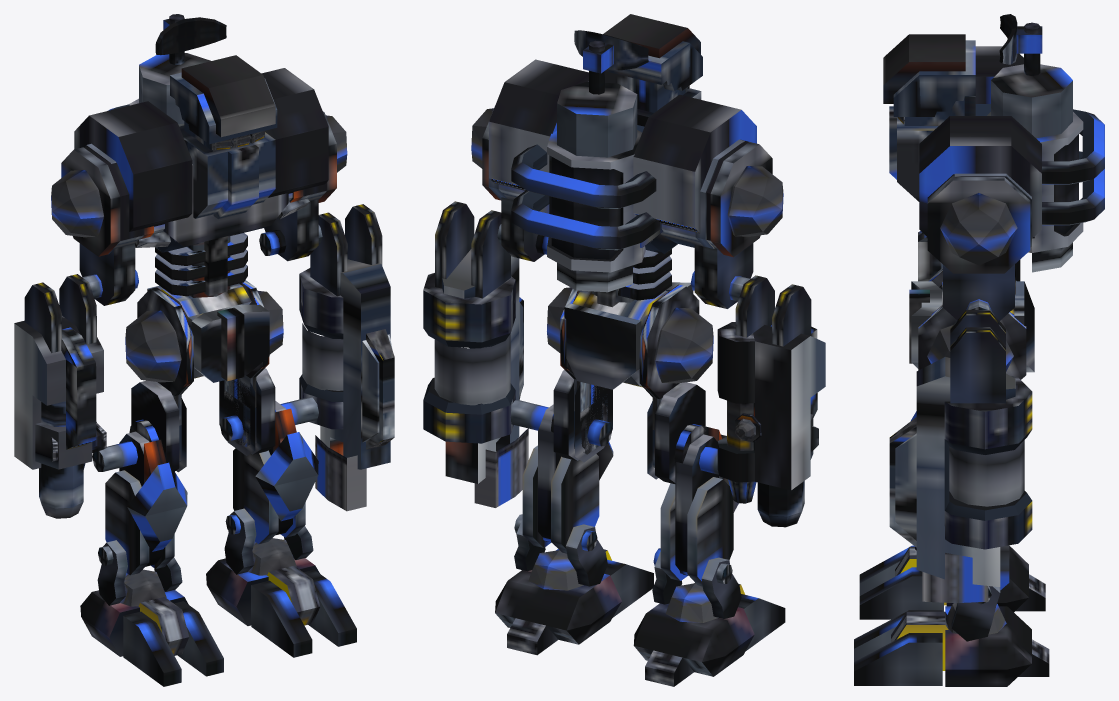
File: armcom_blue.glb
3 views of the same model, side by side, from view 1: azimuth 30°, elevation 25°; view 2: azimuth 150°, elevation 25°; view 3: azimuth 270°, elevation 25° (orthographic). The views are drawn at different scales.
Parts seen in each view (by area): view 1: torso, biggun, rloarm, head, lfoot, rfoot, ruparm, rthigh, rleg, lleg, pelvis, lthigh (+4 smaller); view 2: torso, rloarm, biggun, lfoot, rfoot, rthigh, ruparm, lleg, rleg, pelvis, head, lthigh (+5 smaller); view 3: biggun, torso, lfoot, luparm, head, rfoot, bigguncyl, lthigh, pelvis, barrel, dish, rloarm (+1 smaller).
Boxes of the visible parts, left/top/right/bottom form: torso: left=74, top=53, right=328, bottom=297; biggun: left=299, top=204, right=394, bottom=469; rloarm: left=14, top=274, right=103, bottom=518; head: left=170, top=55, right=277, bottom=219; lfoot: left=206, top=508, right=356, bottom=657; rfoot: left=80, top=540, right=223, bottom=686; ruparm: left=51, top=146, right=153, bottom=305; rthigh: left=125, top=287, right=193, bottom=472; rleg: left=92, top=431, right=187, bottom=575; lleg: left=220, top=397, right=318, bottom=543; pelvis: left=147, top=283, right=269, bottom=382; lthigh: left=219, top=280, right=283, bottom=455; torso: left=488, top=59, right=756, bottom=307; rloarm: left=717, top=275, right=825, bottom=527; biggun: left=423, top=201, right=523, bottom=483; lfoot: left=495, top=514, right=653, bottom=655; rfoot: left=633, top=548, right=785, bottom=686; rthigh: left=639, top=284, right=713, bottom=483; ruparm: left=690, top=140, right=783, bottom=308; lleg: left=510, top=400, right=613, bottom=553; rleg: left=660, top=425, right=738, bottom=586; pelvis: left=564, top=282, right=693, bottom=389; head: left=603, top=14, right=702, bottom=126; lthigh: left=547, top=287, right=612, bottom=462; biggun: left=889, top=310, right=1032, bottom=587; torso: left=919, top=46, right=1104, bottom=294; lfoot: left=854, top=586, right=1049, bottom=686; luparm: left=927, top=174, right=1030, bottom=320; head: left=883, top=34, right=975, bottom=201; rfoot: left=859, top=545, right=1045, bottom=619; bigguncyl: left=949, top=440, right=1024, bottom=506; lthigh: left=918, top=305, right=1026, bottom=379; pelvis: left=909, top=281, right=1034, bottom=372; barrel: left=922, top=553, right=988, bottom=603; dish: left=999, top=14, right=1042, bottom=75; rloarm: left=918, top=231, right=1020, bottom=281.
Size of the model in its own units: 37.17 by 58.71 by 21.71.
1 material, 1 textured.
